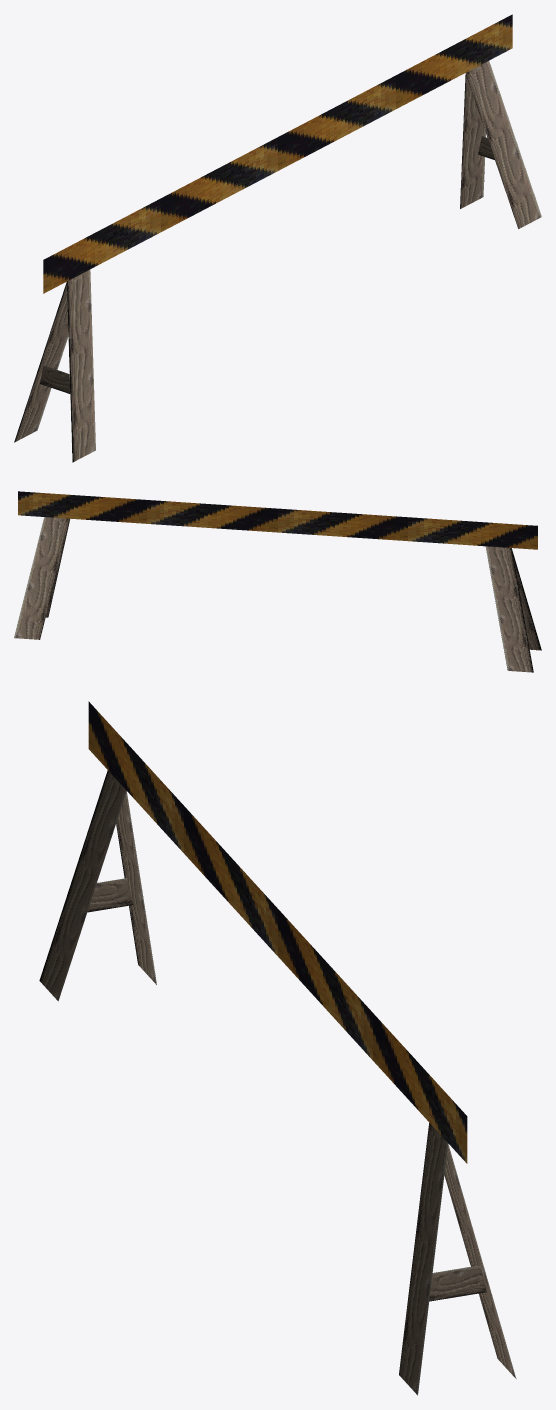
File: primary_036.glb
The picture shows the model from 3 angles, top to bottom: view 1: azimuth 30°, elevation 25°; view 2: azimuth 150°, elevation 25°; view 3: azimuth 270°, elevation 25°; orthographic projection. The views are drawn at different scales.
Parts seen in each view (by area): view 1: Object; view 2: Object; view 3: Object.
Part boxes in pixels (x1=…): Object: x1=14, y1=14, x2=541, y2=462; Object: x1=14, y1=491, x2=541, y2=672; Object: x1=39, y1=701, x2=516, y2=1395.
Size of the model in its own units: 4.3 by 1.26 by 2.01.
7 materials, 7 textured.
